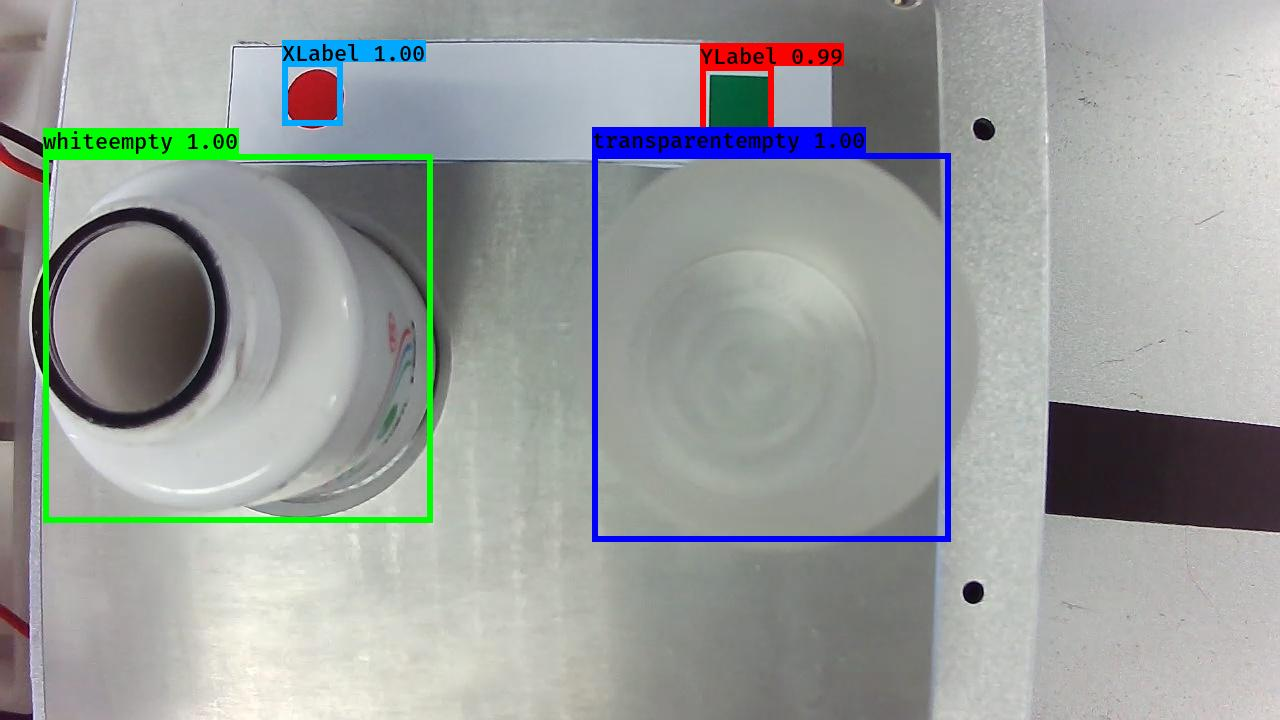XLabel: (281, 63, 350, 132)
YLabel: (706, 68, 777, 141)
transparentempty: (558, 137, 989, 556)
whiteempty: (26, 155, 453, 525)
